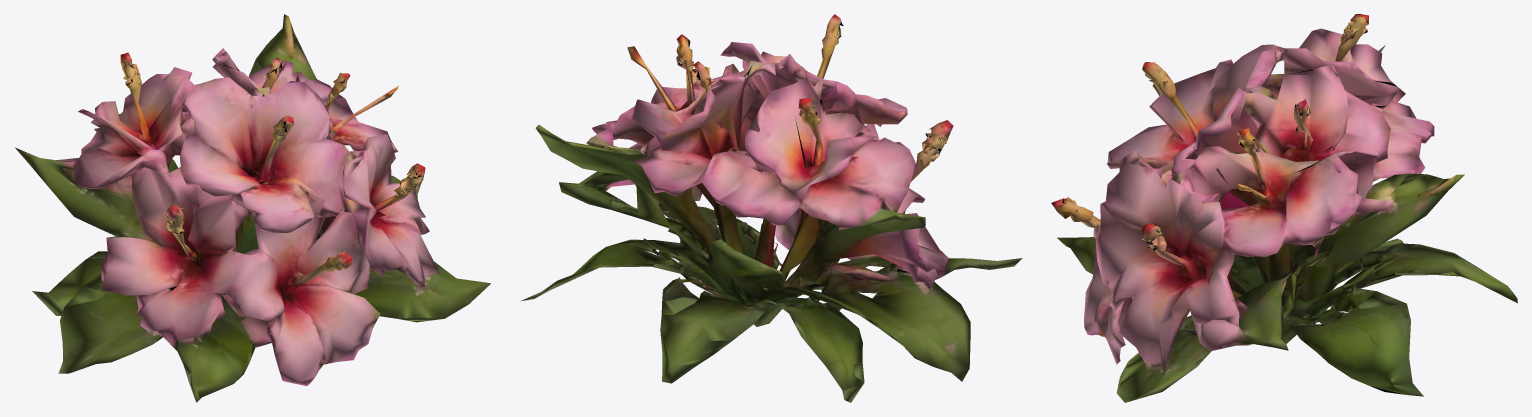
File: plant_hibiscus.glb
3 views of the same model, side by side, from view 1: azimuth 30°, elevation 25°; view 2: azimuth 150°, elevation 25°; view 3: azimuth 270°, elevation 25° (orthographic). The views are drawn at different scales.
Parts seen in each view (by area): view 1: lo; view 2: lo; view 3: lo.
Boxes of the visible parts, left/top/right/bottom form: lo: left=15, top=14, right=490, bottom=402; lo: left=520, top=14, right=1022, bottom=402; lo: left=1051, top=14, right=1517, bottom=402.
Size of the model in its own units: 2 by 1.37 by 1.95.
Materials: 1 (1 with a texture image).
